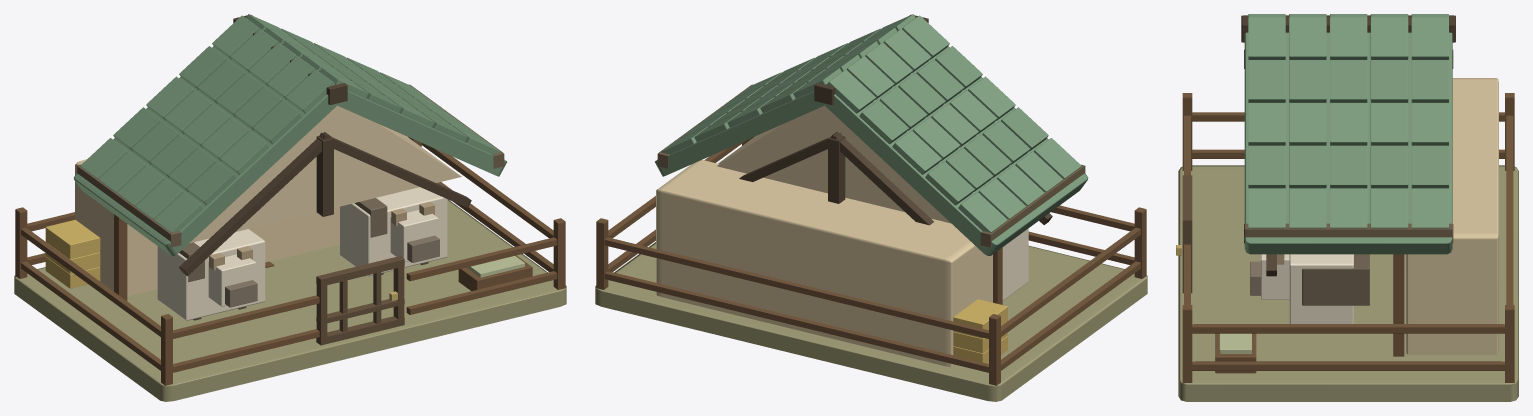
The model's file is cowshed-1.glb.
3 views of the same model, side by side, from view 1: azimuth 30°, elevation 25°; view 2: azimuth 150°, elevation 25°; view 3: azimuth 270°, elevation 25° (orthographic). The views are drawn at different scales.
Visible parts, largest first — view 1: cowshed-1-0, cow-1, cow-0, door-hinge; view 2: cowshed-1-0, cow-0; view 3: cowshed-1-0, cow-1, door-hinge.
Boxes of the visible parts, x1=… form: cowshed-1-0: x1=14, y1=14, x2=566, y2=401; cow-1: x1=340, y1=187, x2=447, y2=276; cow-0: x1=157, y1=229, x2=265, y2=320; door-hinge: x1=316, y1=256, x2=404, y2=345; cowshed-1-0: x1=595, y1=14, x2=1147, y2=401; cow-0: x1=1002, y1=228, x2=1028, y2=300; cowshed-1-0: x1=1178, y1=14, x2=1518, y2=401; cow-1: x1=1250, y1=254, x2=1369, y2=323; door-hinge: x1=1176, y1=175, x2=1192, y2=293.
Bounding box in the file's own units: 2.9 × 1.71 × 1.91.
